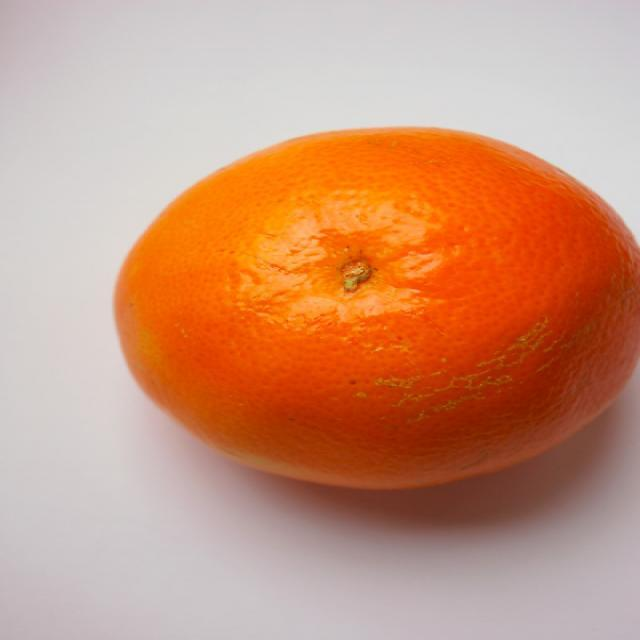Orange: (98, 126, 640, 492)
